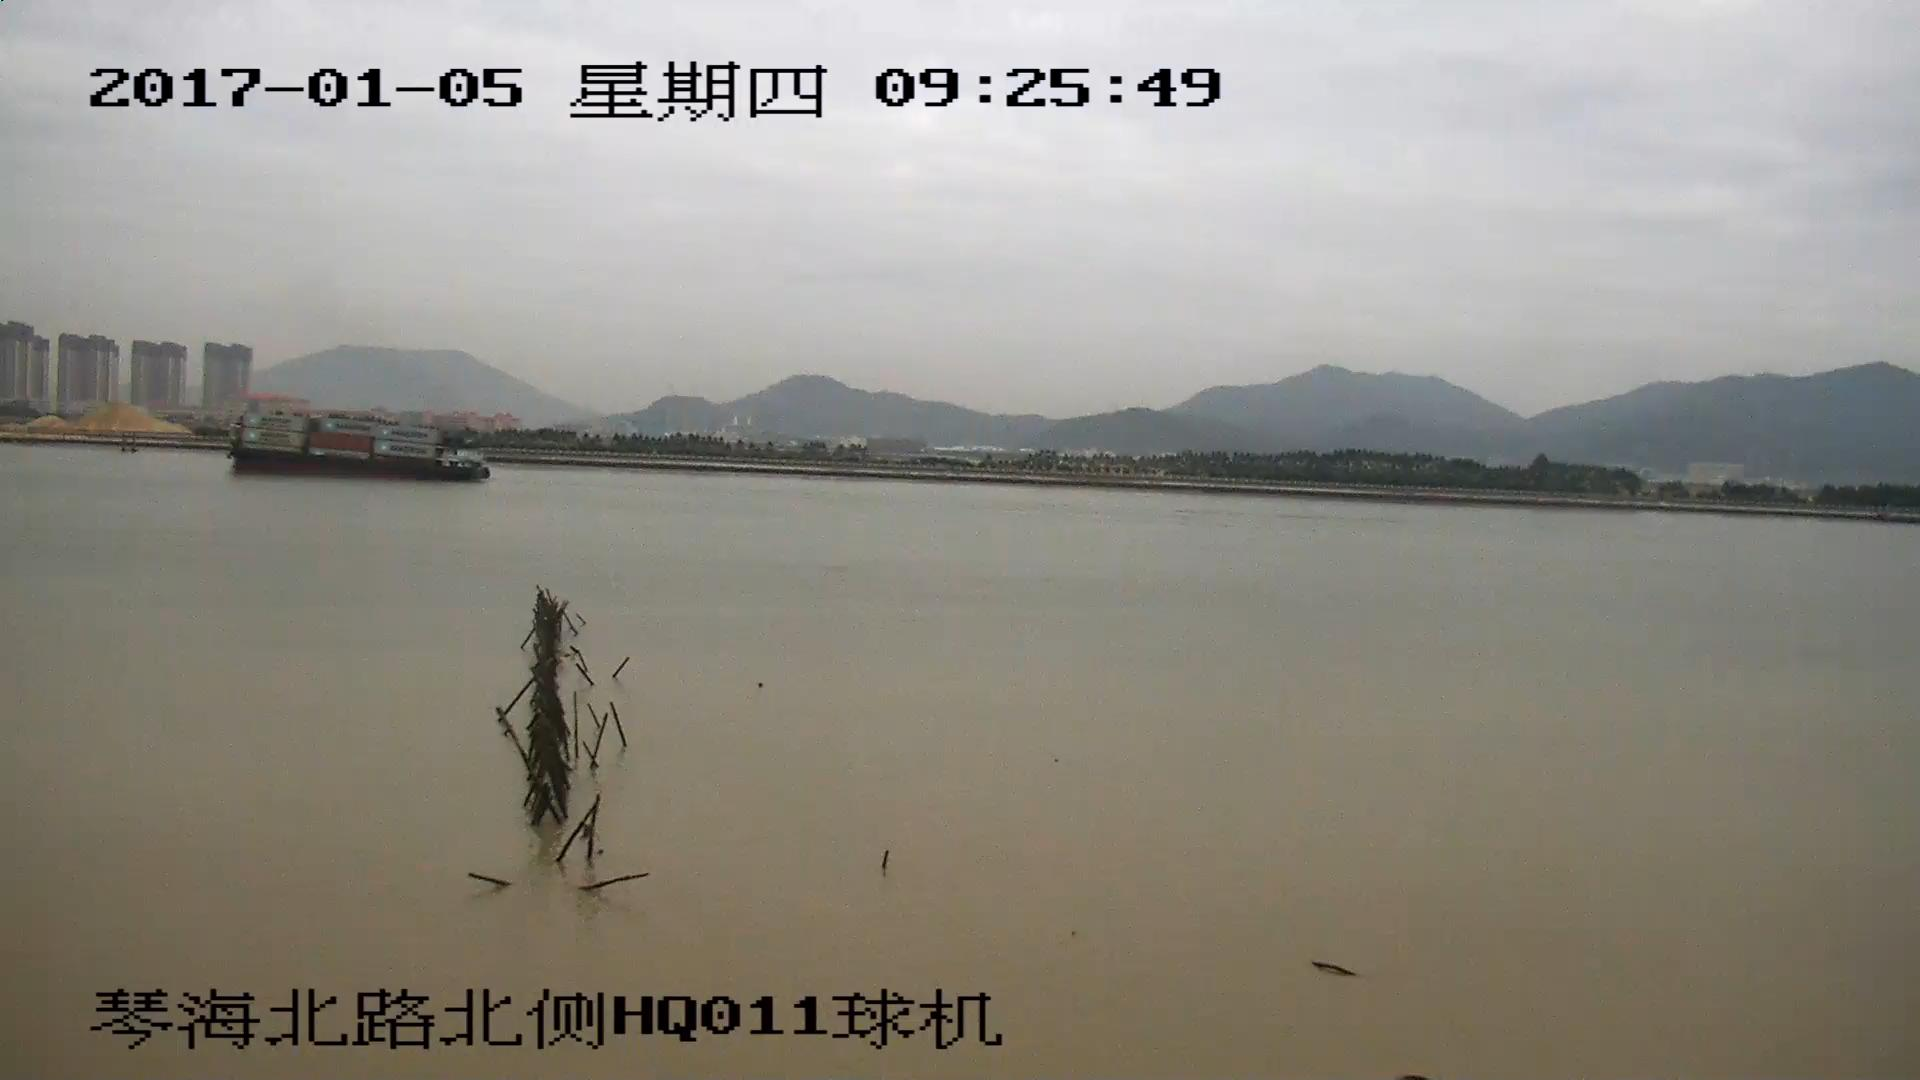container ship: (227, 411, 490, 479)
